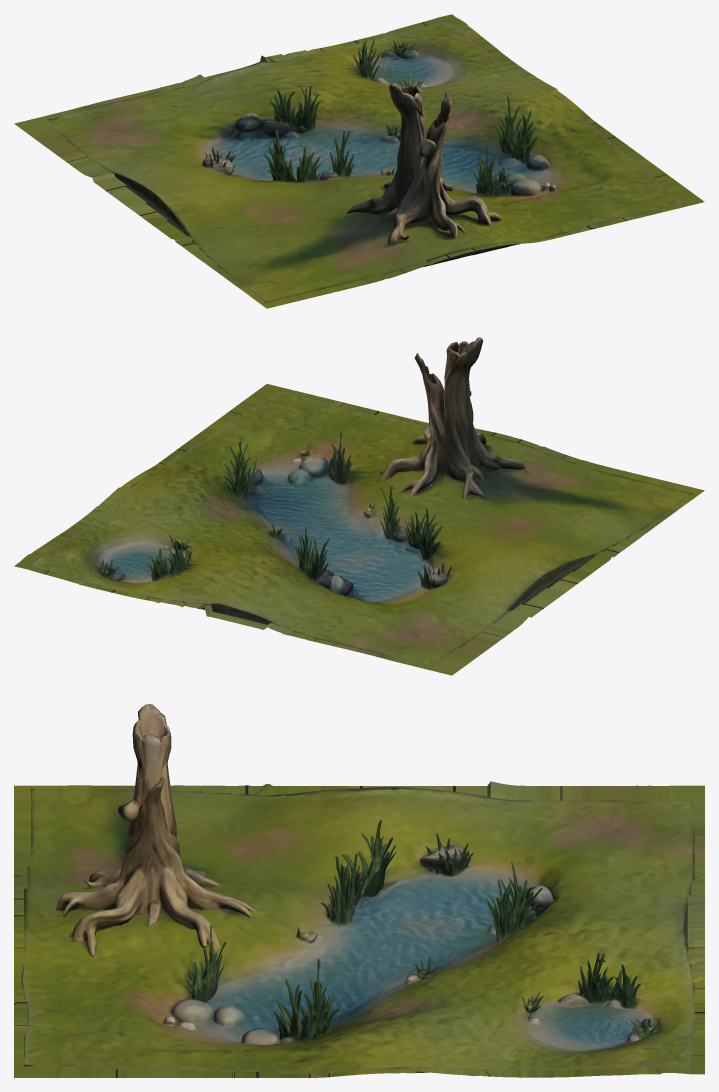
The model's file is terrain3.glb.
3 views of the same model, one above another, from view 1: azimuth 30°, elevation 25°; view 2: azimuth 150°, elevation 25°; view 3: azimuth 270°, elevation 25° (orthographic). The views are drawn at different scales.
Visible parts, largest first — view 1: tripo_node_d4001068-1afc-4107-854f-8ae2400797a0; view 2: tripo_node_d4001068-1afc-4107-854f-8ae2400797a0; view 3: tripo_node_d4001068-1afc-4107-854f-8ae2400797a0.
Boxes of the visible parts, x1,y1,x2,y2 form: tripo_node_d4001068-1afc-4107-854f-8ae2400797a0: [14, 14, 704, 308]; tripo_node_d4001068-1afc-4107-854f-8ae2400797a0: [14, 337, 704, 675]; tripo_node_d4001068-1afc-4107-854f-8ae2400797a0: [14, 704, 704, 1077].
Size of the model in its own units: 100 by 34.78 by 100.
Materials: 1 (1 with a texture image).
